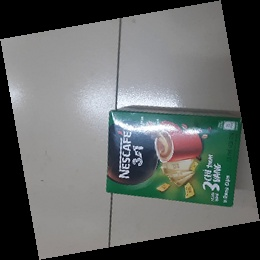Nes Rang: (105, 108, 243, 208)
